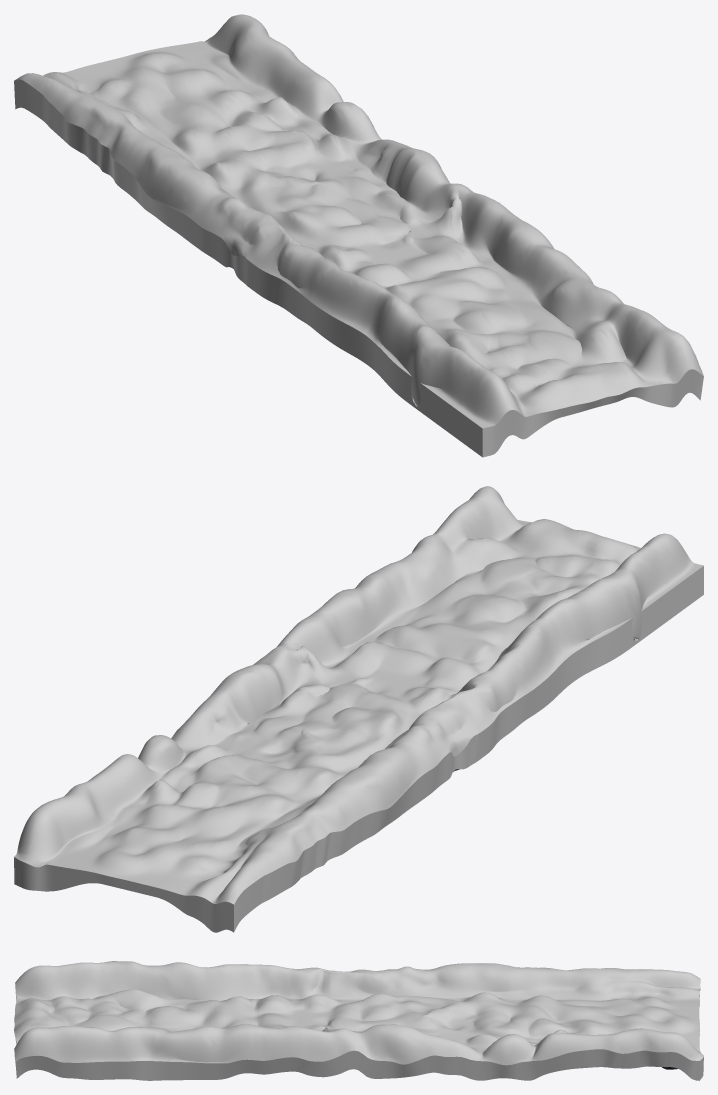
File: cave top2.fbx
3 views of the same model, one above another, from view 1: azimuth 30°, elevation 25°; view 2: azimuth 150°, elevation 25°; view 3: azimuth 270°, elevation 25° (orthographic). The views are drawn at different scales.
Visible parts, largest first — view 1: pPlane21; view 2: pPlane21; view 3: pPlane21.
Part boxes in pixels (bbox=[...]): pPlane21: bbox=[14, 14, 703, 457]; pPlane21: bbox=[14, 486, 703, 932]; pPlane21: bbox=[14, 961, 703, 1080].
Bounding box in the file's own units: 356 × 99.81 × 1234.
